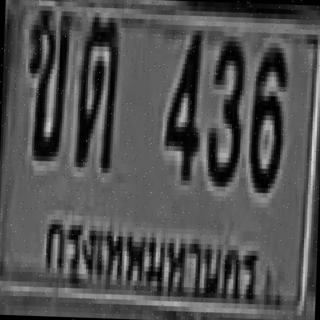A02: (25, 5, 72, 156)
A21: (74, 14, 117, 166)
N03: (206, 31, 244, 182)
N04: (162, 24, 200, 176)
N06: (248, 42, 286, 188)
P04: (29, 200, 269, 319)
